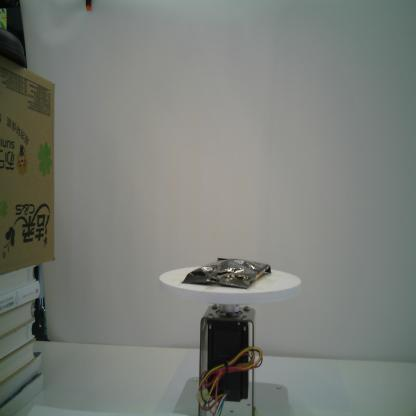Instant Drink: (181, 257, 271, 289)
